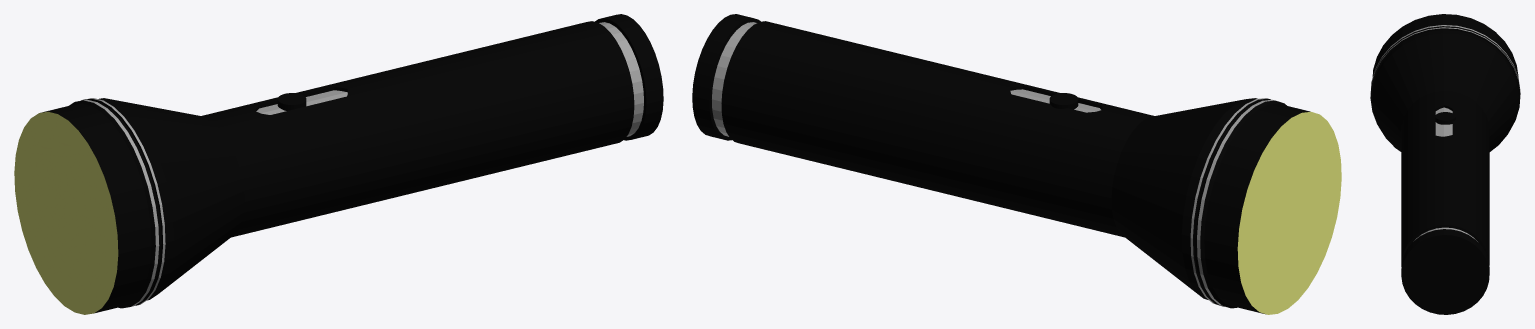
File: flashlight.fbx
3 views of the same model, side by side, from view 1: azimuth 30°, elevation 25°; view 2: azimuth 150°, elevation 25°; view 3: azimuth 270°, elevation 25° (orthographic). The views are drawn at different scales.
Visible parts, largest first — view 1: Cylinder, Cylinder.001; view 2: Cylinder, Cylinder.001; view 3: Cylinder, Cylinder.001, Cylinder.002.
Part boxes in pixels (left/top/right/bottom): Cylinder: left=201, top=14, right=663, bottom=237; Cylinder.001: left=14, top=98, right=244, bottom=314; Cylinder: left=692, top=14, right=1153, bottom=237; Cylinder.001: left=1111, top=98, right=1341, bottom=314; Cylinder: left=1401, top=91, right=1489, bottom=314; Cylinder.001: left=1370, top=14, right=1520, bottom=151; Cylinder.002: left=1435, top=112, right=1455, bottom=124.
Size of the model in its own units: 107 by 34.84 by 34.84.
